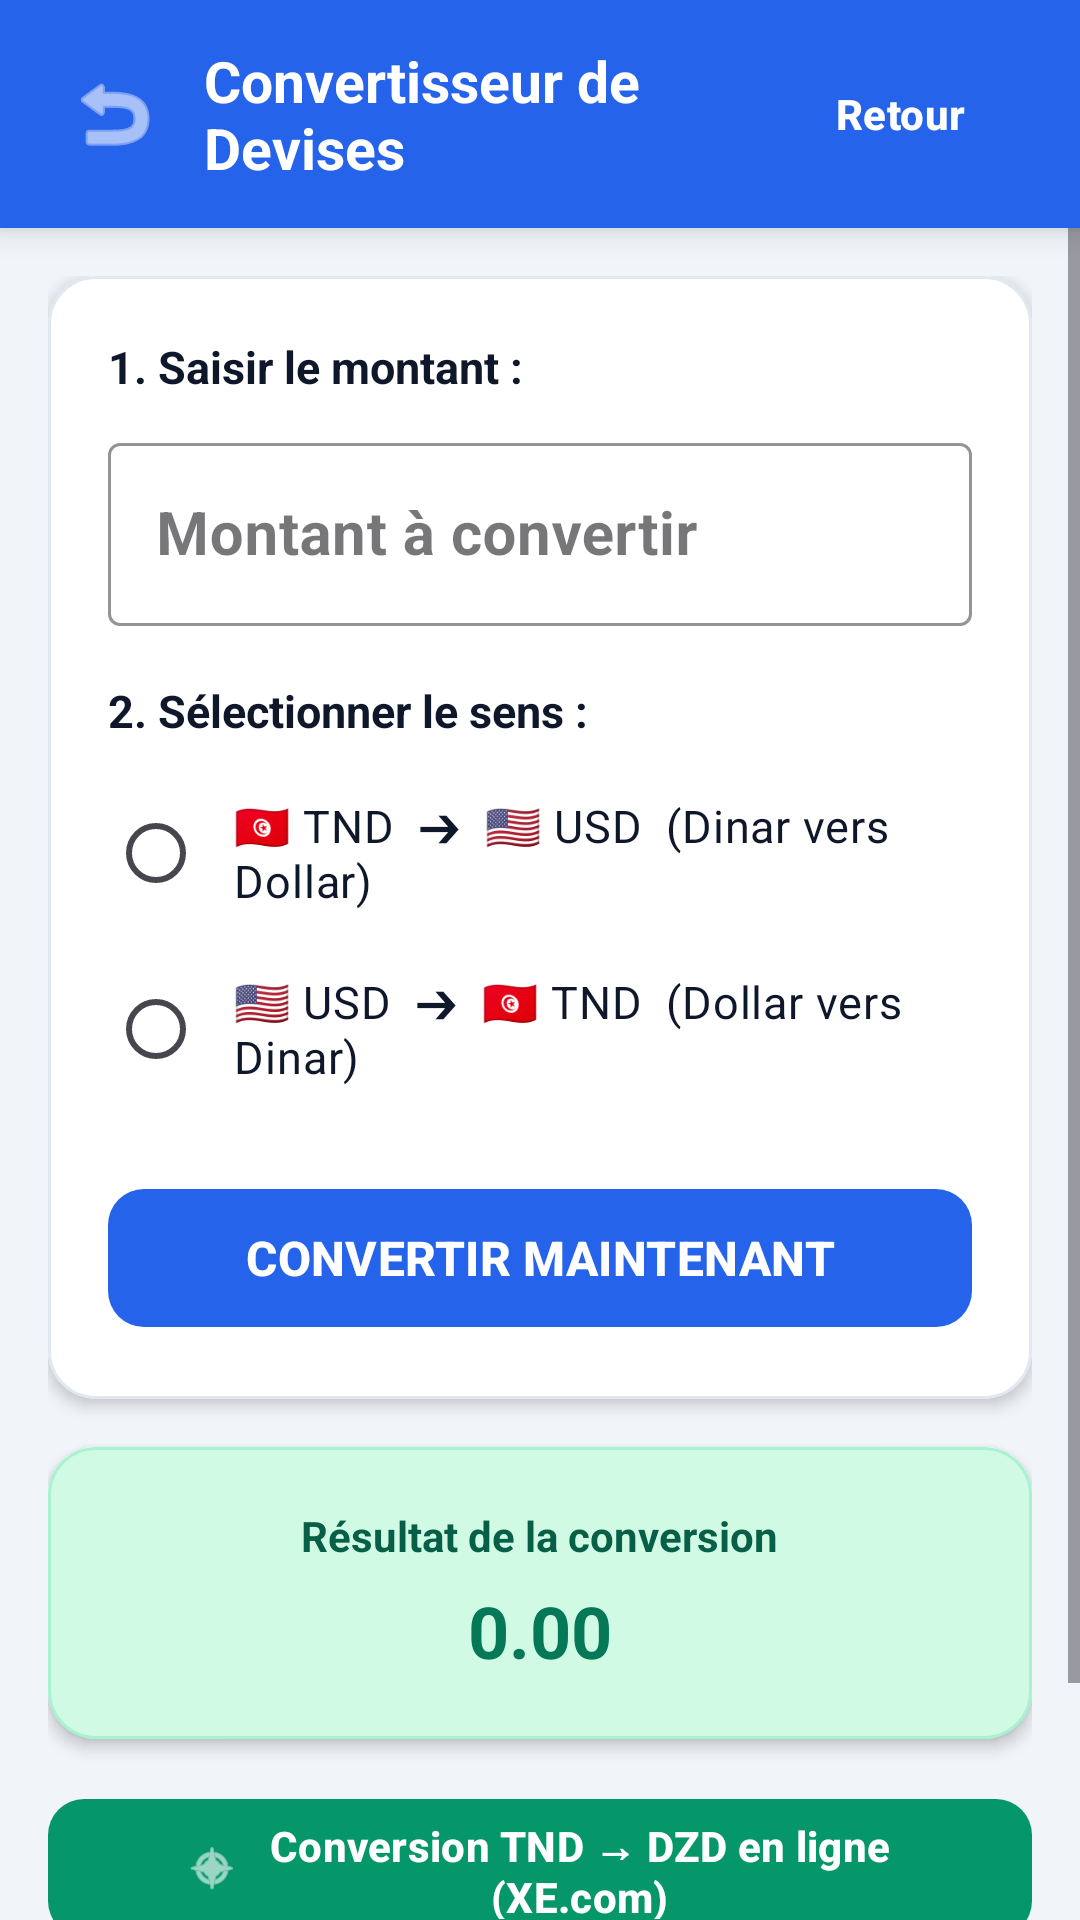

Named icons in this screenshot (1080*1920) and their bounding boxes, (x1, y1, x2, y2):
Retour: (81, 83, 150, 146)
